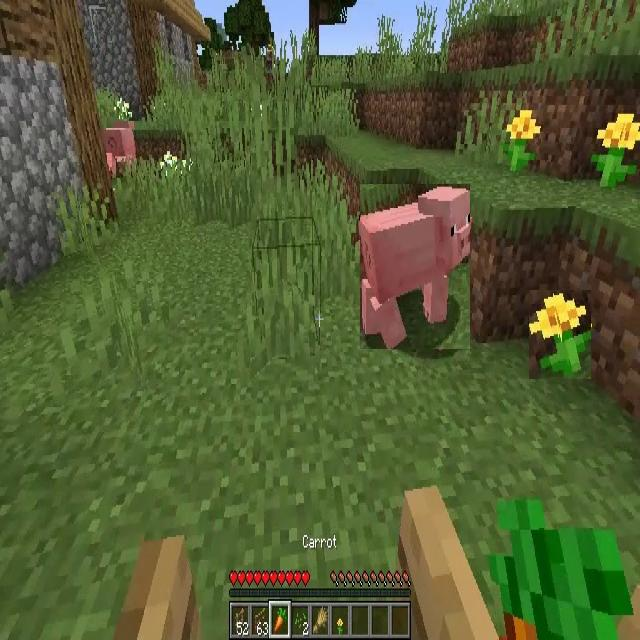flower: (530, 290, 592, 379), (593, 114, 640, 190), (504, 109, 541, 176)
pig: (360, 184, 470, 349)
